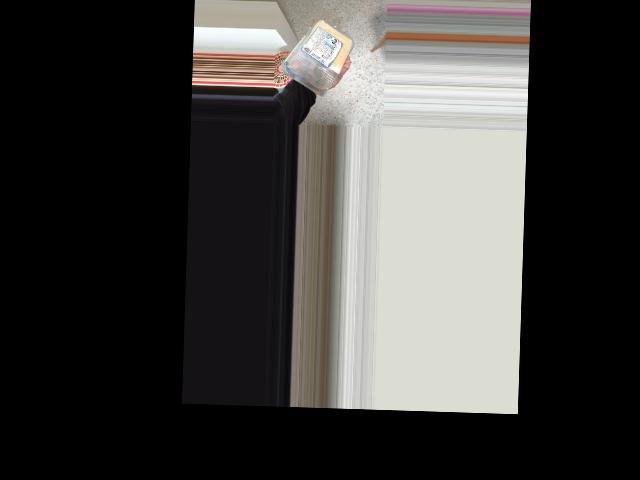cheese: (285, 15, 344, 87)
